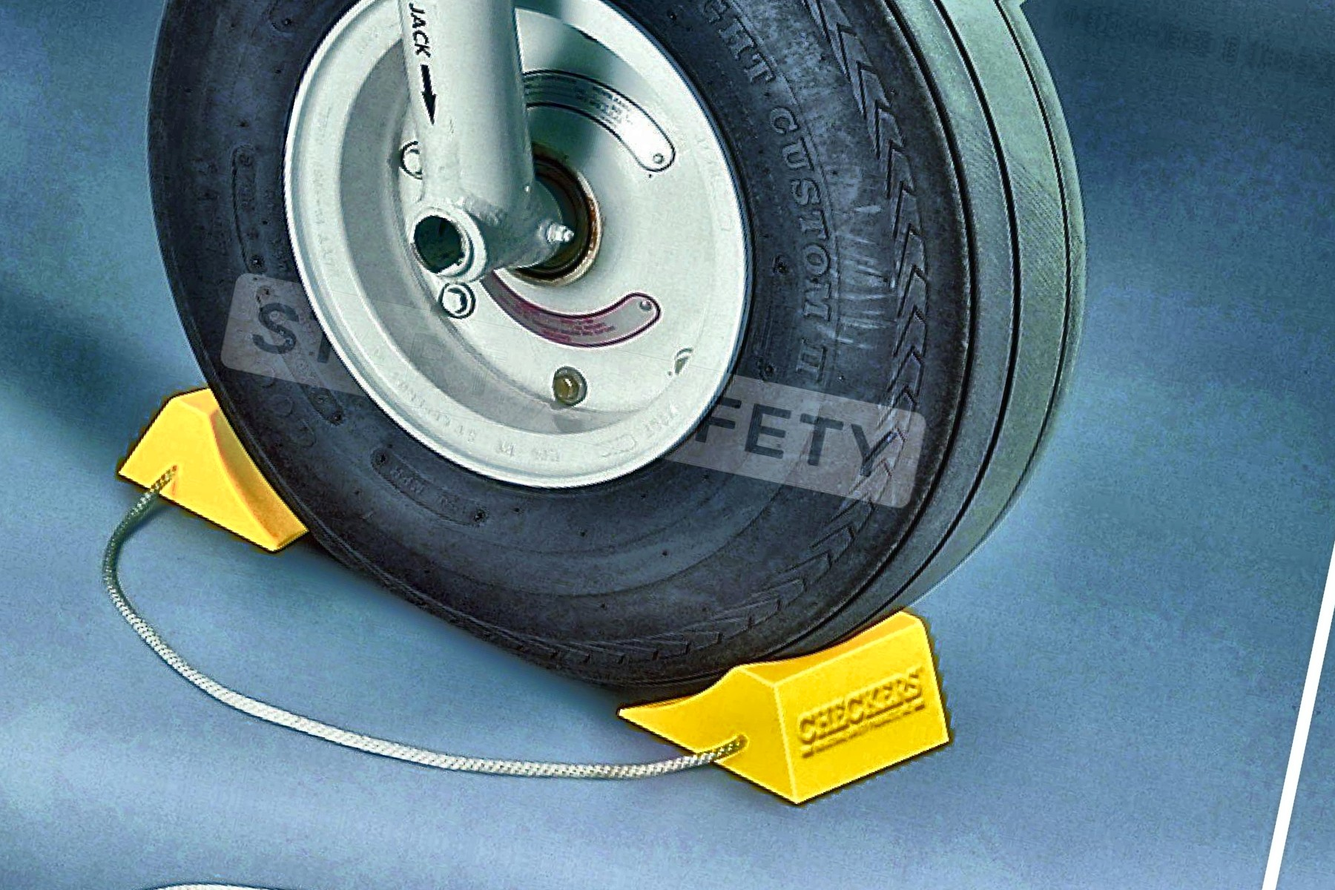chock: (603, 555, 981, 838), (107, 368, 335, 560)
wheel: (36, 0, 1149, 771)
